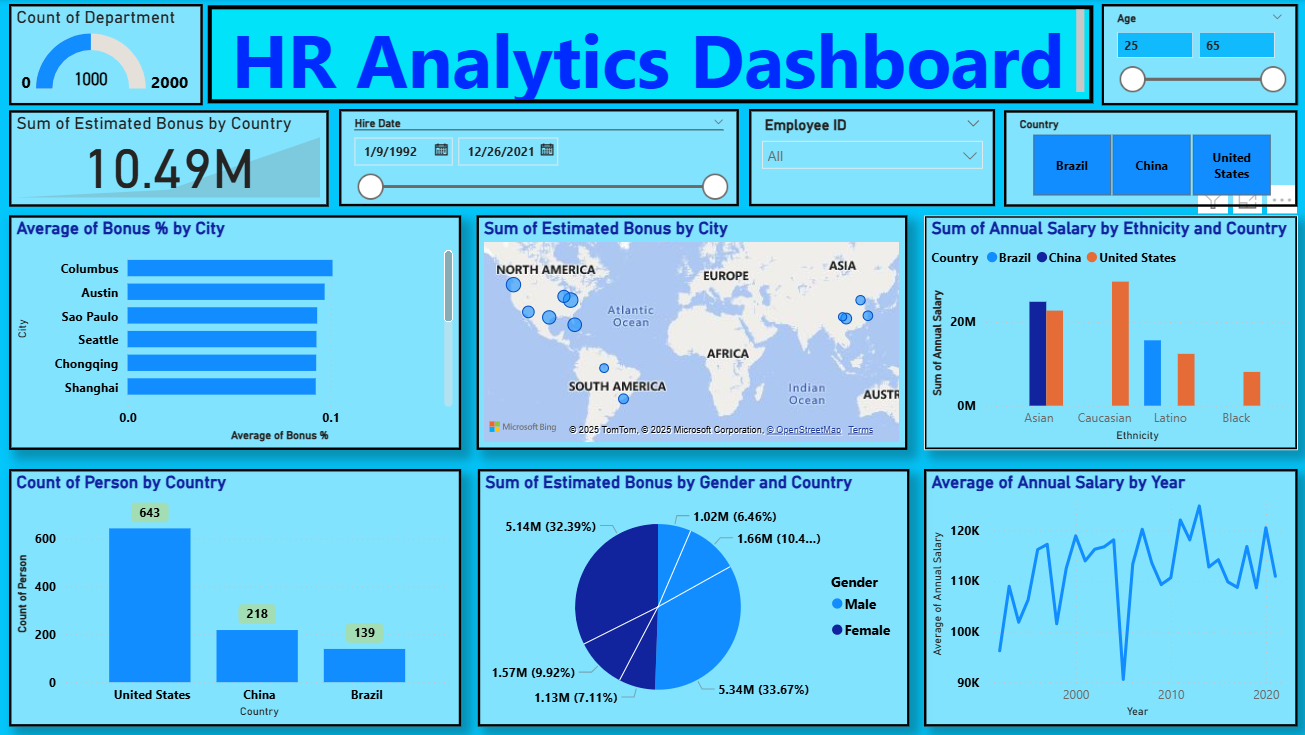

The dashboard page shown, as its layout file describes it:
{"tool":"powerbi","page":{"name":"HR Analytics Dashboard 2","canvas":[1280,720],"ordinal":1},"visuals":[{"type":"slicer","fields":{"Values":["TBL_Employees.Hire Date"]},"box":[332.6,107.6,391.3,95.4],"z":1500},{"type":"clusteredColumnChart","fields":{"Y":["CountNonNull(TBL_Employees.Full Name)"],"Category":["TBL_Employees.Country"]},"box":[9.7,459.7,442.8,252.1],"z":2000},{"type":"pieChart","fields":{"Category":["TBL_Employees.Gender"],"Series":["TBL_Employees.Country"],"Y":["Sum(TBL_Employees.Estimated Bonus)"]},"box":[468.1,459.7,422.3,252.1],"z":3000},{"type":"lineChart","fields":{"Y":["Avg(TBL_Employees.Annual Salary)"],"Category":["TBL_Employees.Hire Date.Variation.Date Hierarchy.Year","TBL_Employees.Hire Date.Variation.Date Hierarchy.Quarter","TBL_Employees.Hire Date.Variation.Date Hierarchy.Month","TBL_Employees.Hire Date.Variation.Date Hierarchy.Day"]},"box":[904.8,459.7,365.6,252.1],"z":4000},{"type":"textbox","box":[203.9,6,866.2,96],"z":6000},{"type":"lineClusteredColumnComboChart","fields":{"Category":["TBL_Employees.Ethnicity"],"Series":["TBL_Employees.Country"],"Y":["Sum(TBL_Employees.Annual Salary)"]},"box":[904.9,211.6,365.6,229.9],"z":7000},{"type":"slicer","fields":{"Values":["TBL_Employees.Country"]},"box":[983.2,108.8,287.4,94.2],"z":8000},{"type":"kpi","fields":{"TrendLine":["TBL_Employees.Country"],"Indicator":["Sum(TBL_Employees.Estimated Bonus)"]},"box":[9.8,108.8,313,94.2],"z":9000},{"type":"slicer","fields":{"Values":["TBL_Employees.EEID"]},"box":[733.7,107.6,240.9,95.4],"z":10000},{"type":"gauge","fields":{"Y":["CountNonNull(TBL_Employees.Department)"]},"box":[9.7,4.8,189.4,98.9],"z":11000},{"type":"slicer","fields":{"Values":["TBL_Employees.Age"]},"box":[1078.6,4.8,191.8,98.9],"z":12000},{"type":"clusteredBarChart","fields":{"Y":["Avg(TBL_Employees.Bonus %)"],"Category":["TBL_Employees.City"]},"box":[9.8,211.6,442.7,229.9],"z":12500},{"type":"map","fields":{"Category":["TBL_Employees.City"],"Size":["Sum(TBL_Employees.Estimated Bonus)"]},"box":[467.1,211.6,421.9,229.9],"z":13000}]}

Visuals, with their boxes in screenshot pixels (x1, y1, x2, y2), scaled from the page's 1280x720 canvas onto the 1305x735 screenshot:
slicer - TBL_Employees.Hire Date: box(339, 110, 738, 207)
clusteredColumnChart - CountNonNull(TBL_Employees.Full Name) x TBL_Employees.Country: box(10, 469, 461, 727)
pieChart - TBL_Employees.Gender x TBL_Employees.Country: box(477, 469, 908, 727)
lineChart - Avg(TBL_Employees.Annual Salary) x TBL_Employees.Hire Date.Variation.Date Hierarchy.Year: box(922, 469, 1295, 727)
textbox: box(208, 6, 1091, 104)
lineClusteredColumnComboChart - TBL_Employees.Ethnicity x TBL_Employees.Country: box(923, 216, 1295, 451)
slicer - TBL_Employees.Country: box(1002, 111, 1295, 207)
kpi - TBL_Employees.Country x Sum(TBL_Employees.Estimated Bonus): box(10, 111, 329, 207)
slicer - TBL_Employees.EEID: box(748, 110, 994, 207)
gauge - CountNonNull(TBL_Employees.Department): box(10, 5, 203, 106)
slicer - TBL_Employees.Age: box(1100, 5, 1295, 106)
clusteredBarChart - Avg(TBL_Employees.Bonus %) x TBL_Employees.City: box(10, 216, 461, 451)
map - TBL_Employees.City x Sum(TBL_Employees.Estimated Bonus): box(476, 216, 906, 451)
